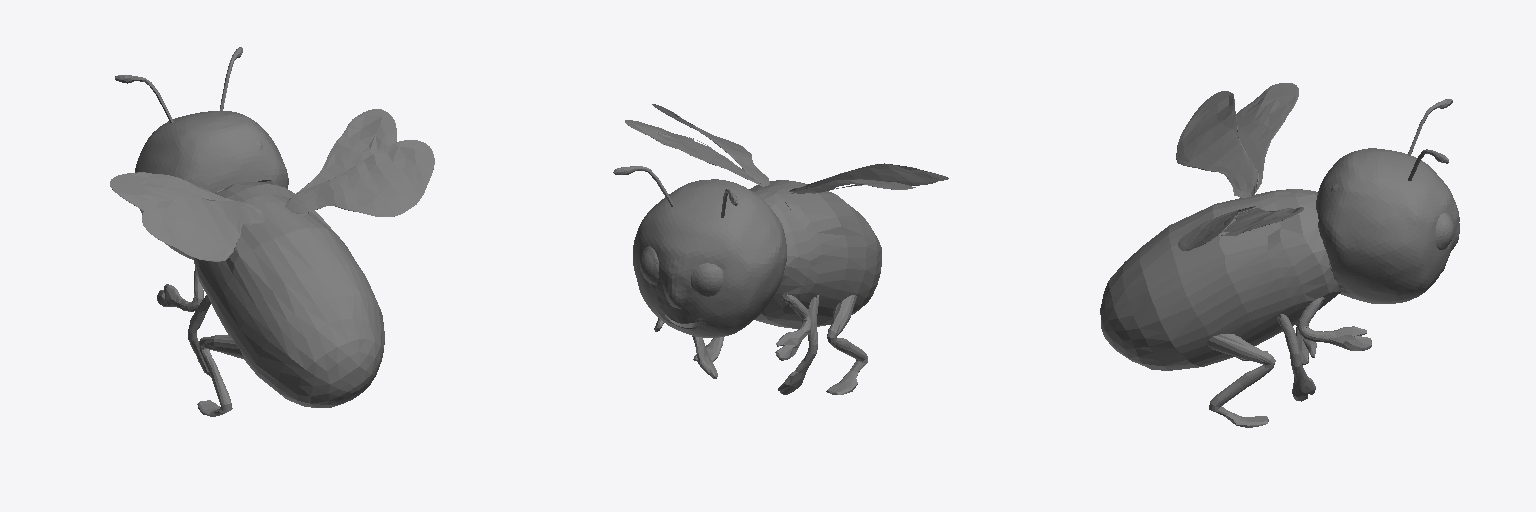
The model's file is Bee_000007.obj.
The picture shows the model from 3 angles: view 1: azimuth 30°, elevation 25°; view 2: azimuth 150°, elevation 25°; view 3: azimuth 270°, elevation 25°; orthographic projection.
Bounding box in the file's own units: 0.3156 × 0.2743 × 0.3376.